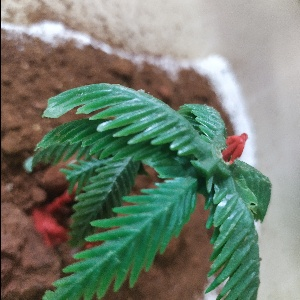plant: (34, 86, 273, 300)
